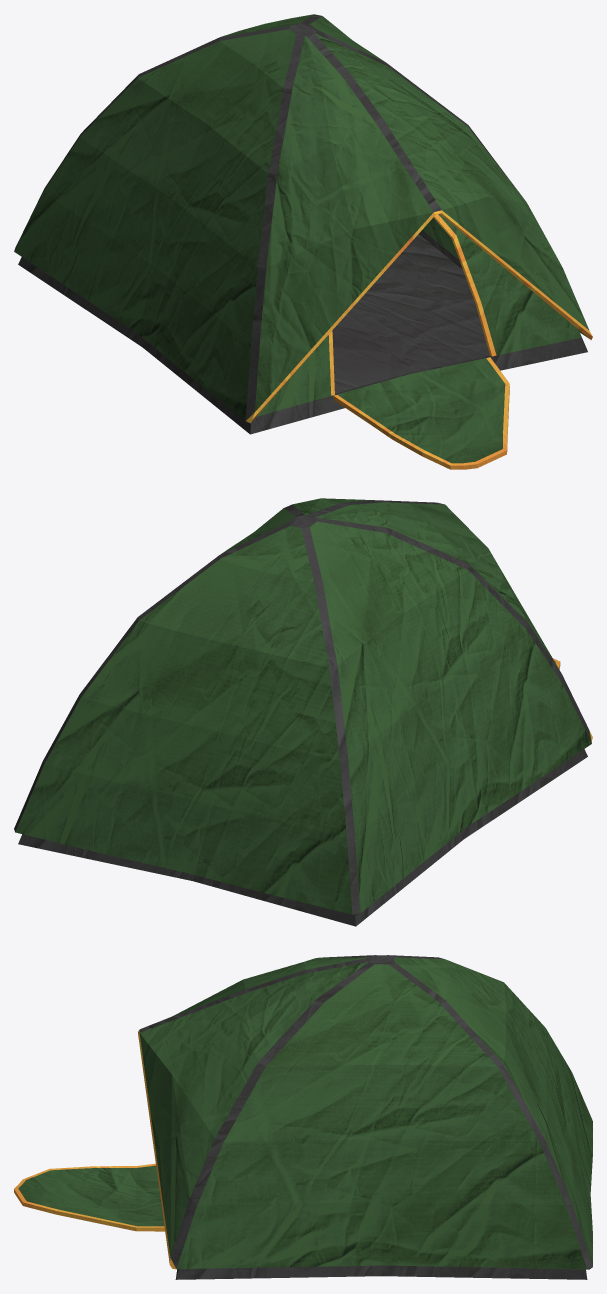
File: Tent Open.fbx
3 renders of one model, top to bottom at view 1: azimuth 30°, elevation 25°; view 2: azimuth 150°, elevation 25°; view 3: azimuth 270°, elevation 25°, orthographic. The views are drawn at different scales.
Parts seen in each view (by area): view 1: Cover, Tent, Door; view 2: Cover, Tent; view 3: Cover, Door, Tent.
Boxes of the visible parts, <box> form: Cover: <box>14,14,592,423</box>; Tent: <box>18,214,587,434</box>; Door: <box>333,357,509,469</box>; Cover: <box>14,498,592,915</box>; Tent: <box>18,749,587,926</box>; Cover: <box>138,955,592,1269</box>; Door: <box>14,1163,164,1231</box>; Tent: <box>175,1265,587,1279</box>.
Size of the model in its own units: 410 by 316 by 670.
Materials: 6 (6 with a texture image).
